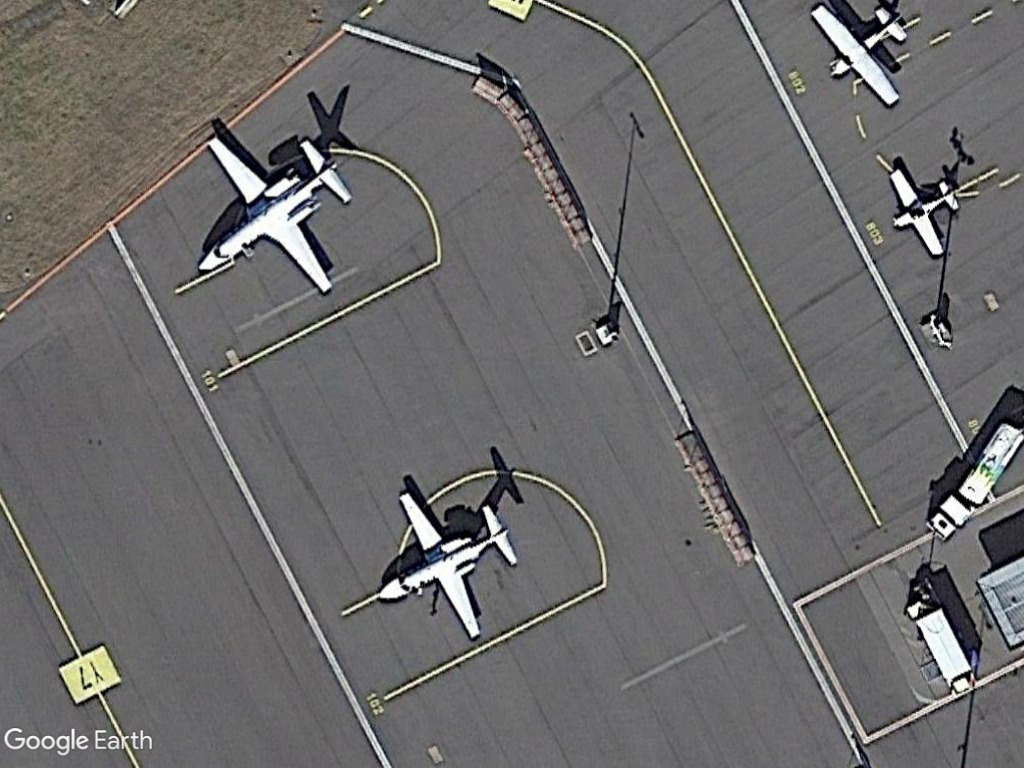chartered: (197, 131, 358, 302), (372, 485, 524, 646)
trainer: (804, 1, 912, 112), (884, 163, 964, 265)
